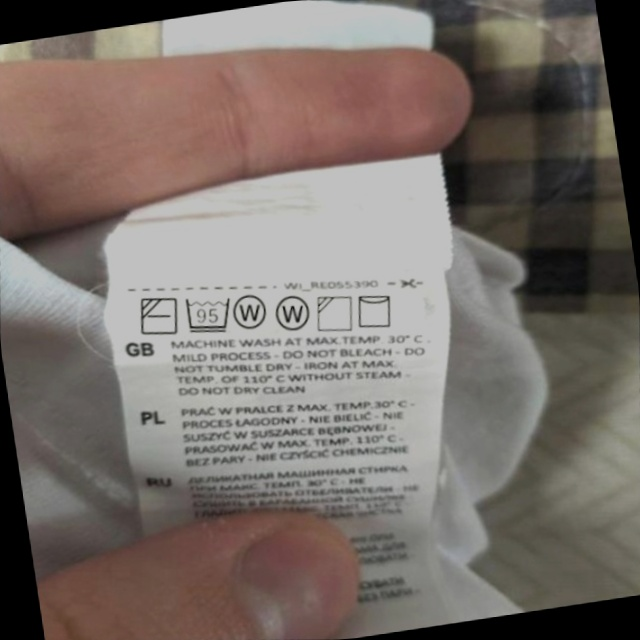95C: (178, 288, 238, 340)
dry_flat_in_shade: (133, 289, 184, 342)
line_dry: (350, 286, 401, 335)
shade_dry: (310, 288, 360, 339)
wet_clean: (269, 289, 317, 339), (228, 285, 275, 336)
